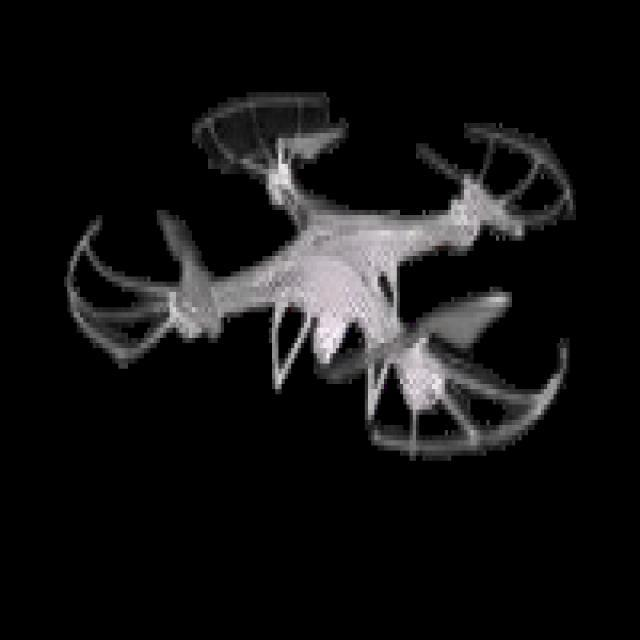drone: (64, 86, 593, 462)
